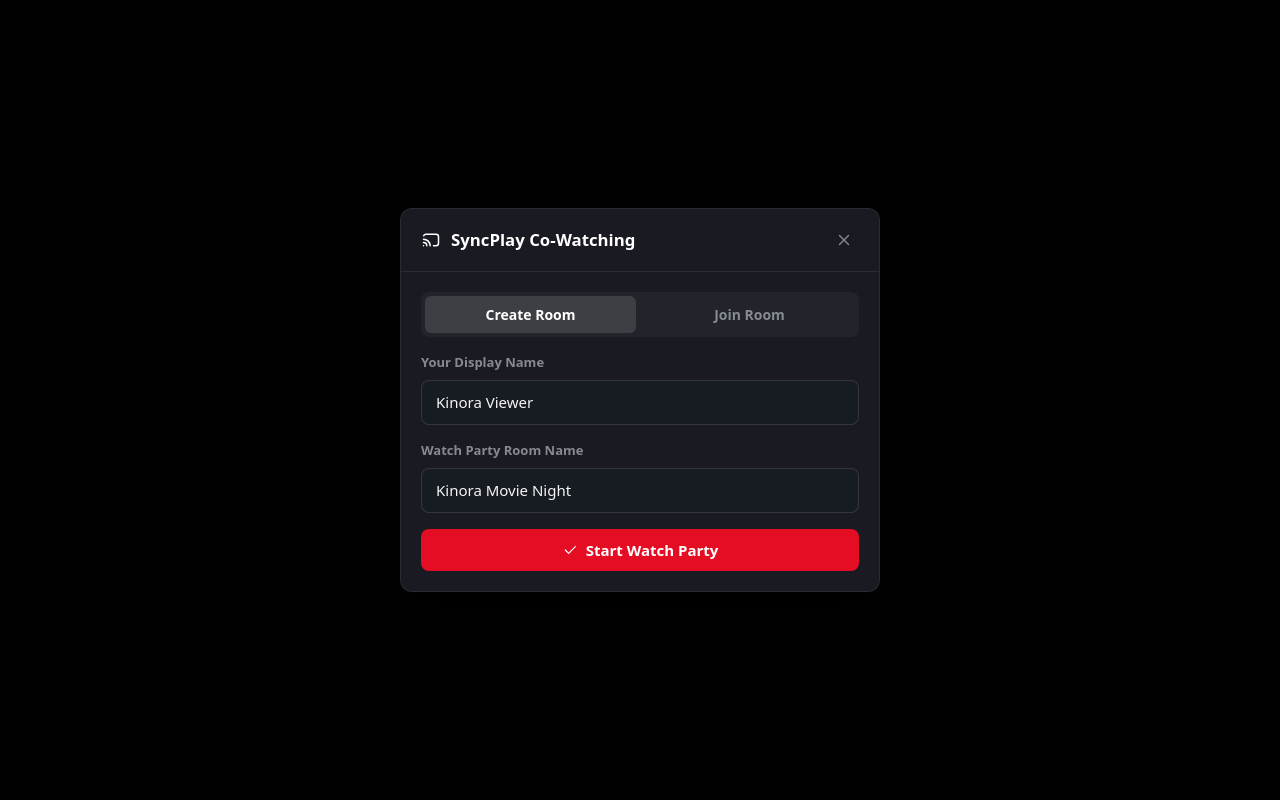
Test case: SyncPlayModal component › creates a room and displays room code and active viewers
Later steps or results of the test are not shown.
Click the submit button: (640, 550) x1=421 y1=529 x2=859 y2=571
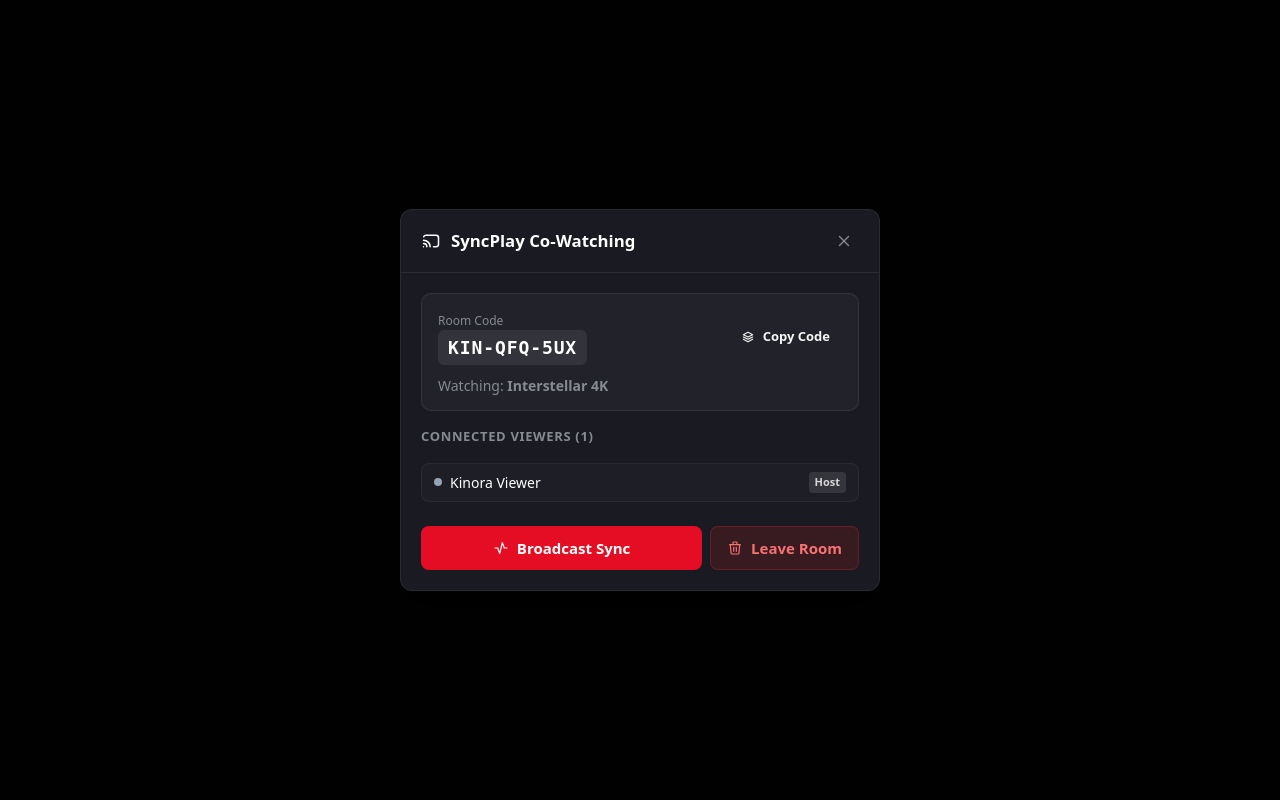
Check: the text with class "syncplay-room-code-badge" is shown, box x1=438 y1=330 x2=587 y2=365
Check: the text with class "syncplay-room-code-badge" shows "KIN-", box x1=448 y1=337 x2=577 y2=358
Check: the element with class "syncplay-roster" is shown, box x1=421 y1=463 x2=859 y2=502
